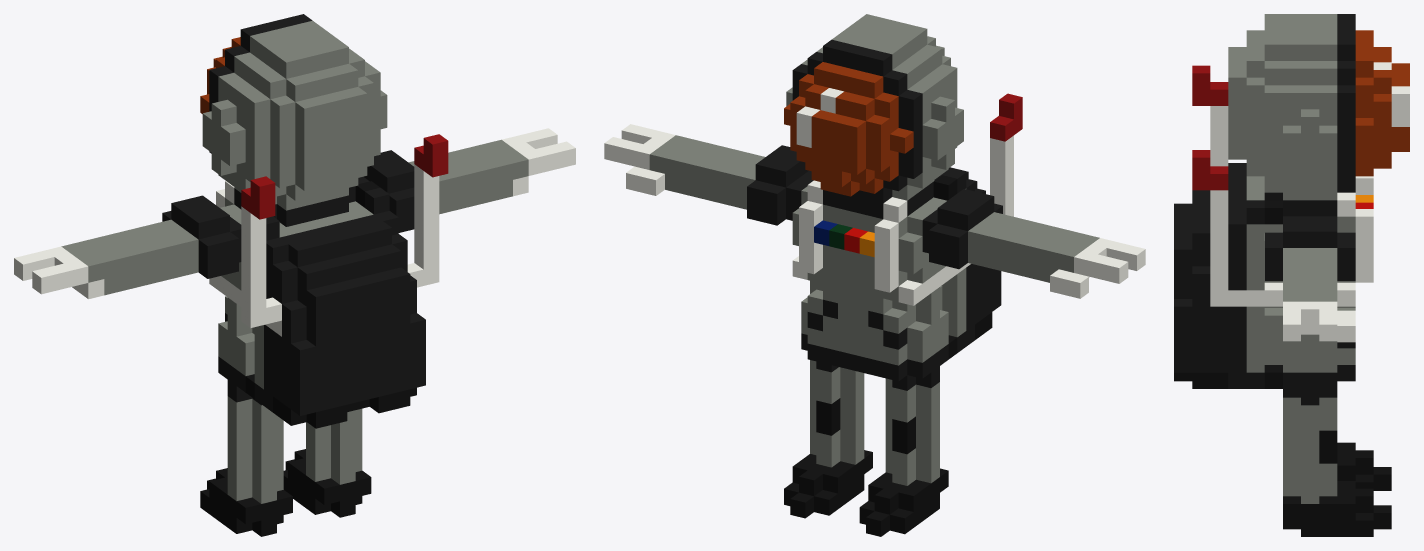
Rendered from Astronaut.obj.
The picture shows the model from 3 angles, left to right: view 1: azimuth 30°, elevation 25°; view 2: azimuth 150°, elevation 25°; view 3: azimuth 270°, elevation 25°; orthographic projection. The views are drawn at different scales.
Visible parts, largest first — view 1: Sac-à-dos, Tete, Épaule.L, Corps, Avant-bras.L, Avant-bras.R, Épaule.R, Pied.L, Pied.R, Cuisse.L, Tibia.R, Tibia.L (+3 smaller); view 2: Tete, Corps, Sac-à-dos, Épaule.L, Épaule.R, Avant-bras.R, Avant-bras.L, Pied.L, Pied.R, Cuisse.L, Cuisse.R, Tibia.L (+6 smaller); view 3: Tete, Sac-à-dos, Corps, Épaule.R, Pied.R, Cuisse.R, Tibia.R, Avant-bras.R, Pied.L, Pouce.R, Index.R, Majeur.R.
Boxes of the visible parts, box(x1,y1,x2,y2) form: Sac-à-dos: box(241, 134, 448, 428); Tete: box(200, 14, 387, 210); Épaule.L: box(124, 195, 241, 283); Corps: box(209, 181, 364, 392); Avant-bras.L: box(46, 231, 151, 299); Avant-bras.R: box(448, 136, 544, 207); Épaule.R: box(358, 150, 465, 232); Pied.L: box(200, 468, 292, 536); Pied.R: box(283, 449, 371, 517); Cuisse.L: box(227, 380, 283, 454); Tibia.R: box(306, 421, 362, 484); Tibia.L: box(227, 440, 283, 503); Tete: box(784, 14, 963, 203); Corps: box(792, 180, 957, 381); Sac-à-dos: box(933, 93, 1022, 359); Épaule.L: box(922, 189, 1039, 273); Épaule.R: box(710, 145, 813, 225); Avant-bras.R: box(634, 131, 735, 200); Avant-bras.L: box(1013, 223, 1114, 282); Pied.L: box(859, 468, 948, 536); Pied.R: box(784, 450, 872, 518); Cuisse.L: box(885, 366, 939, 438); Cuisse.R: box(810, 360, 864, 419); Tibia.L: box(885, 425, 939, 485); Tete: box(1228, 14, 1409, 200); Sac-à-dos: box(1174, 65, 1282, 388); Corps: box(1264, 176, 1373, 388); Épaule.R: box(1265, 216, 1355, 280); Pied.R: box(1283, 481, 1391, 536); Cuisse.R: box(1283, 389, 1337, 454); Tibia.R: box(1283, 447, 1337, 503); Avant-bras.R: box(1283, 271, 1337, 334); Pied.L: box(1337, 442, 1391, 490); Pouce.R: box(1337, 310, 1355, 342); Index.R: box(1319, 309, 1337, 341); Majeur.R: box(1283, 309, 1300, 341).
Bounding box in the file's own units: 5.38 × 4.59 × 2.06.
